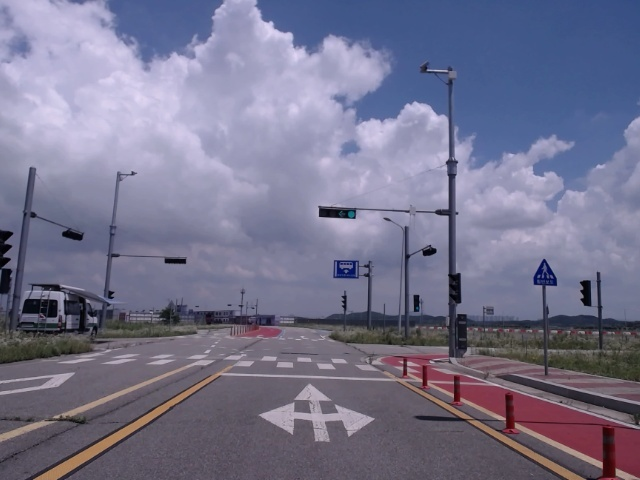all_green_4: (322, 207, 354, 218)
